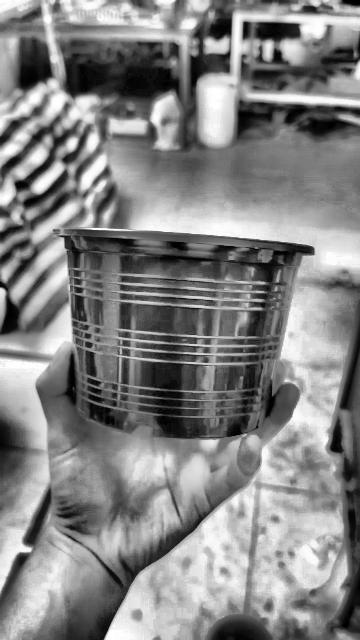pot: (54, 228, 313, 439)
